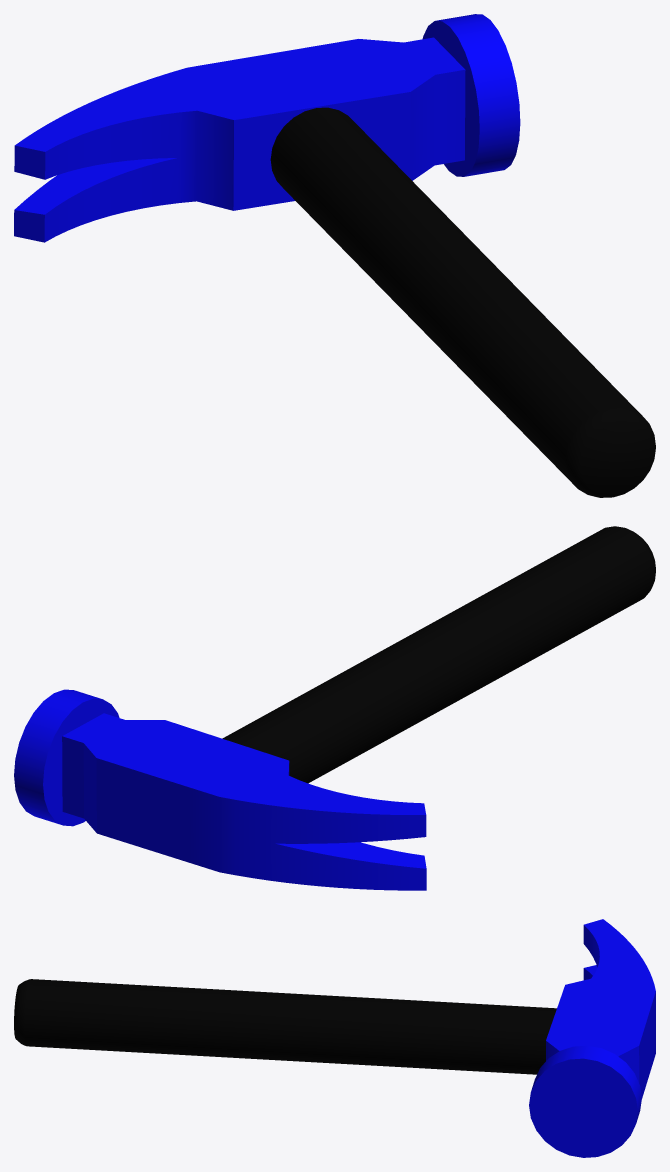
The model's file is hammer_03_origin_gt_5.dae.
3 renders of one model, top to bottom at view 1: azimuth 30°, elevation 25°; view 2: azimuth 150°, elevation 25°; view 3: azimuth 270°, elevation 25°, orthographic. The views are drawn at different scales.
Parts seen in each view (by area): view 1: Component_2 (×2), Component_3; view 2: Component_2 (×2), Component_3; view 3: Component_3, Component_2 (×2).
Boxes of the visible parts, x1,y1,x2,y2 form: Component_2 (×2): (14,14,520,242); Component_3: (270,107,655,497); Component_2 (×2): (14,689,426,890); Component_3: (222,526,655,783); Component_3: (14,979,556,1074); Component_2 (×2): (529,919,655,1157).
Size of the model in its own units: 7.3 by 12.48 by 2.14.
